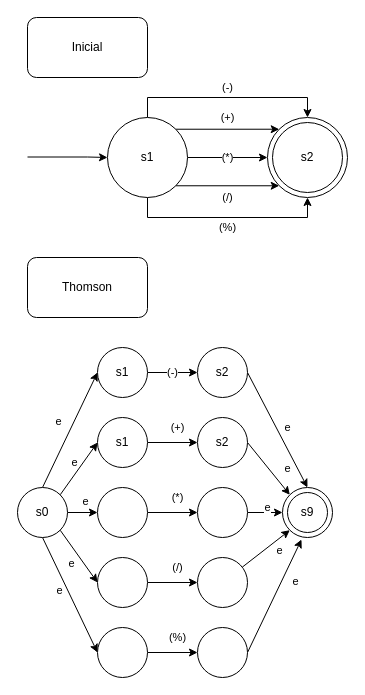
This 365x695 diagram has some shape labels left out. The box of each missing label's shape, as (x1, y1, x2, y2) in pixels:
s3: (96, 486, 148, 538)
s4: (196, 486, 248, 538)
s5: (96, 556, 148, 608)
s6: (196, 556, 248, 608)
s7: (96, 626, 148, 678)
s8: (196, 626, 248, 678)
